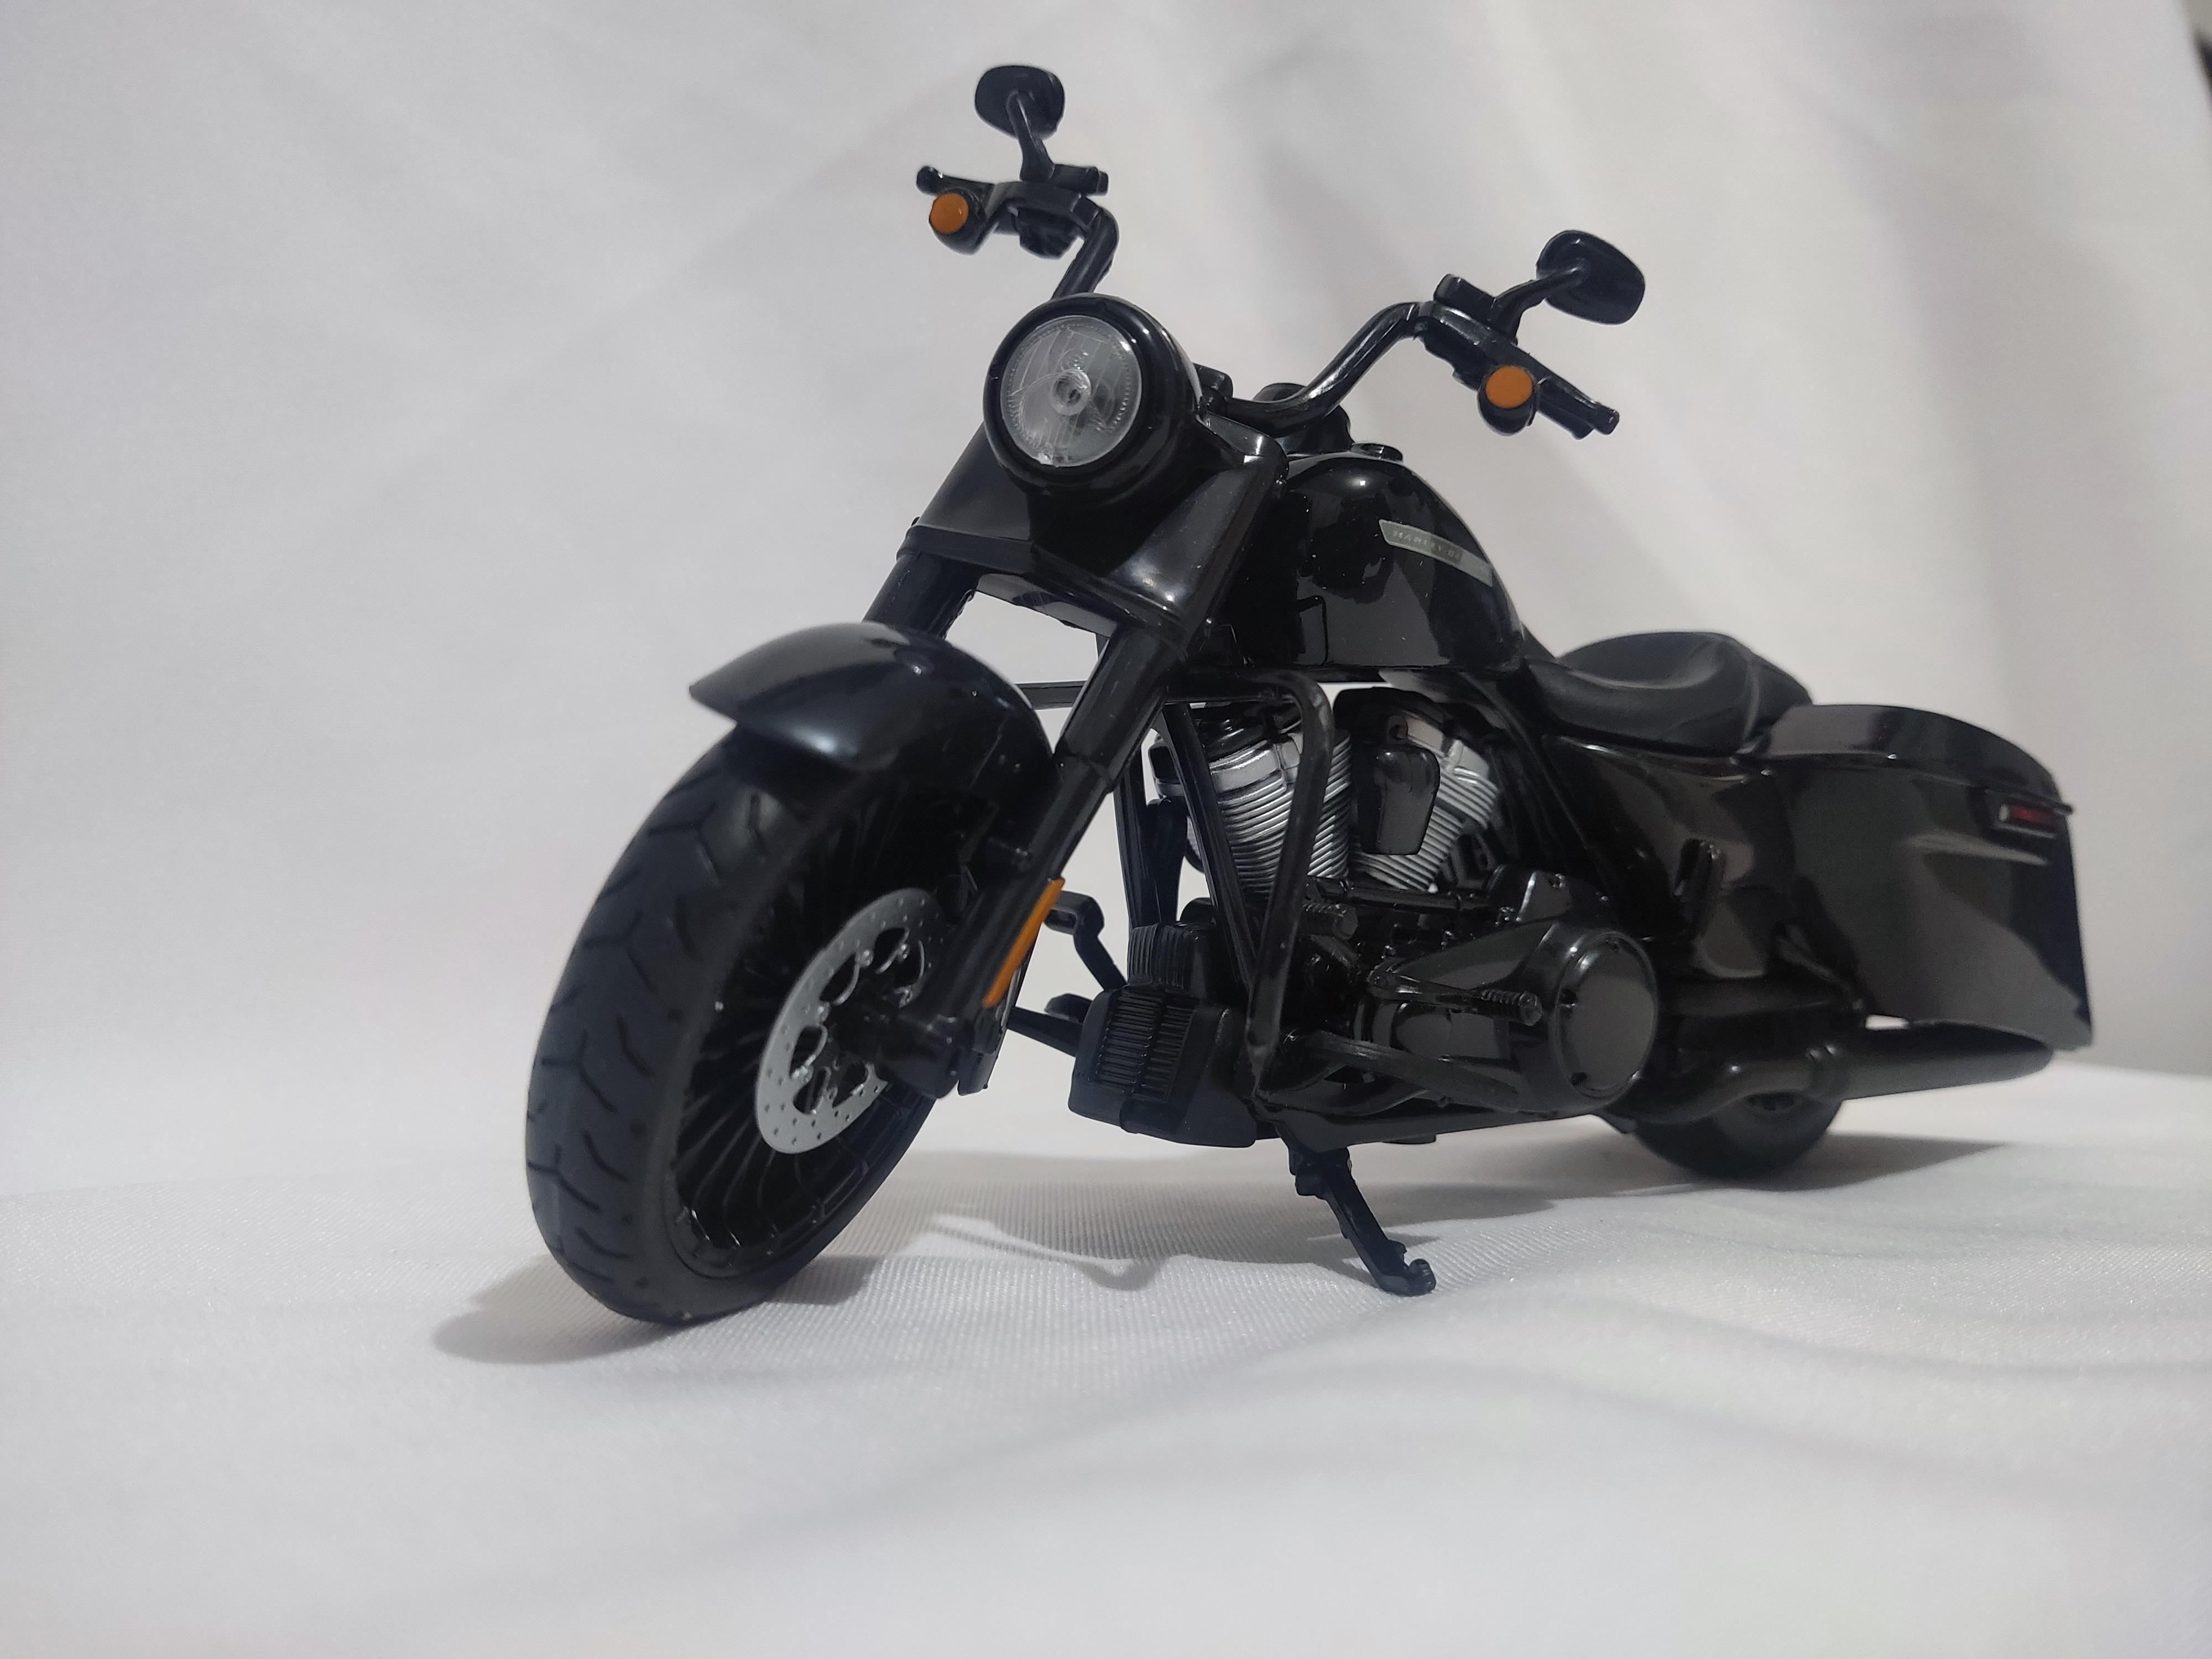Motorcycle: (510, 42, 2130, 1312)
